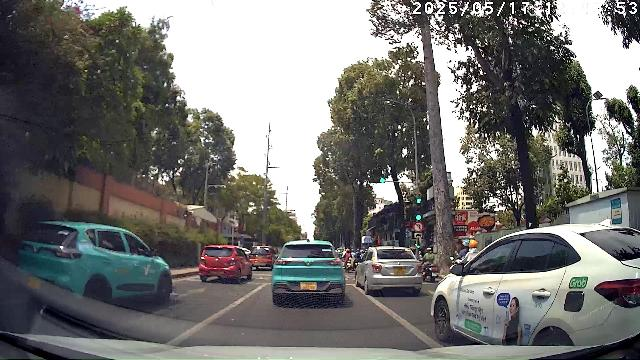123a-cam-re-trai: (413, 222, 424, 232)
